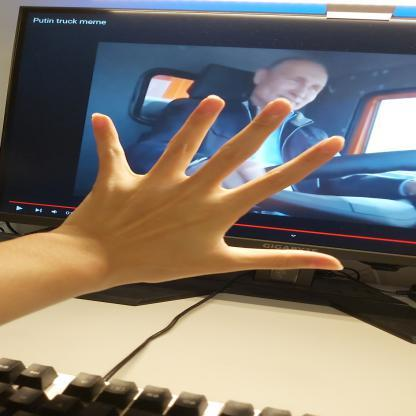bare_hand: (44, 90, 356, 302)
